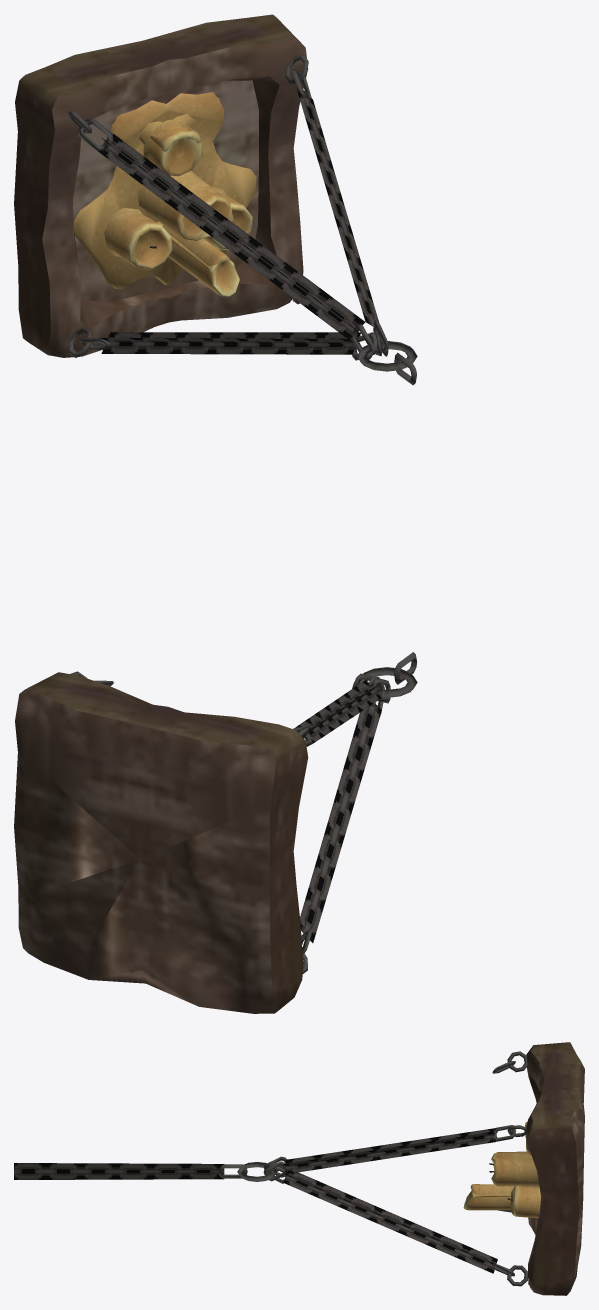
Rendered from VIK_PRO_Candle_Suspended_02A_LOD0-transformed.glb.
3 views of the same model, one above another, from view 1: azimuth 30°, elevation 25°; view 2: azimuth 150°, elevation 25°; view 3: azimuth 270°, elevation 25° (orthographic). The views are drawn at different scales.
Visible parts, largest first — view 1: VIK_PRO_Candle_Suspended_02A_LOD0; view 2: VIK_PRO_Candle_Suspended_02A_LOD0; view 3: VIK_PRO_Candle_Suspended_02A_LOD0.
Boxes of the visible parts, left/top/right/bottom form: VIK_PRO_Candle_Suspended_02A_LOD0: left=14, top=14, right=417, bottom=385; VIK_PRO_Candle_Suspended_02A_LOD0: left=14, top=652, right=417, bottom=1013; VIK_PRO_Candle_Suspended_02A_LOD0: left=14, top=1042, right=584, bottom=1295.
Bounding box in the file's own units: 0.00357 × 0.00357 × 0.0104.
Materials: 3 (3 with a texture image).
